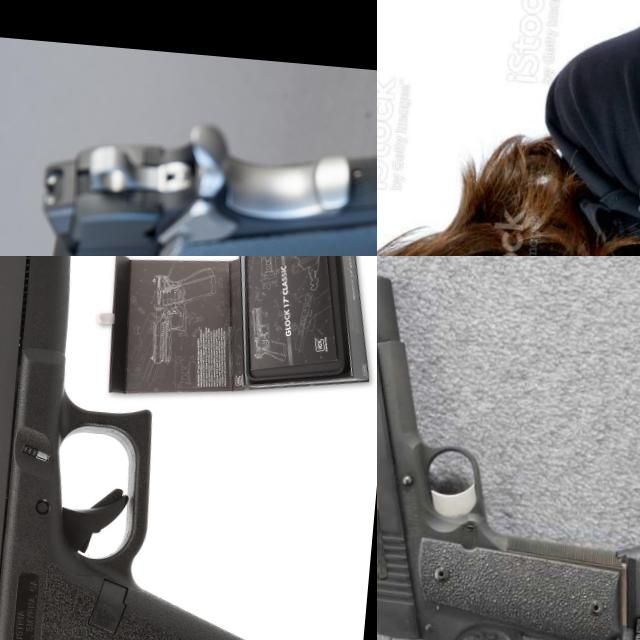handgun: (0, 256, 377, 640), (377, 266, 640, 640), (11, 95, 377, 256)
